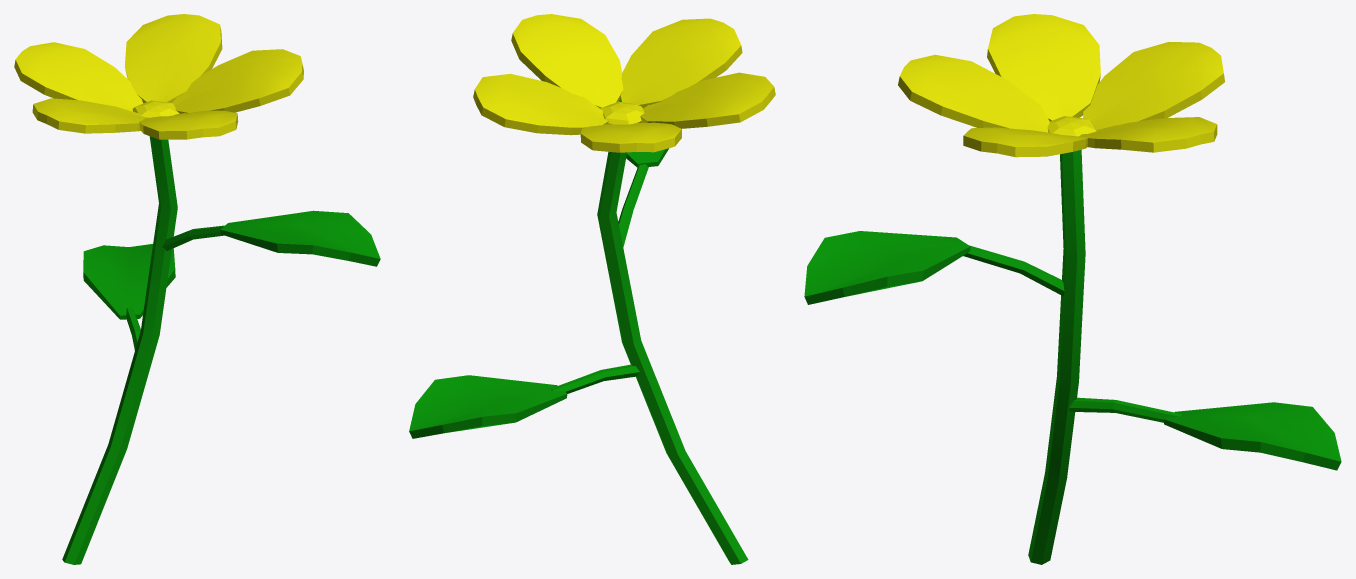
The model's file is Flowers_v1_001.fbx.
3 views of the same model, side by side, from view 1: azimuth 30°, elevation 25°; view 2: azimuth 150°, elevation 25°; view 3: azimuth 270°, elevation 25° (orthographic). The views are drawn at different scales.
Parts seen in each view (by area): view 1: Flowers_v1_001; view 2: Flowers_v1_001; view 3: Flowers_v1_001.
Boxes of the visible parts, <box> form: Flowers_v1_001: <box>14,14,380,564</box>; Flowers_v1_001: <box>409,14,775,564</box>; Flowers_v1_001: <box>804,14,1341,564</box>.
Bounding box in the file's own units: 18.37 × 32.52 × 29.44.
